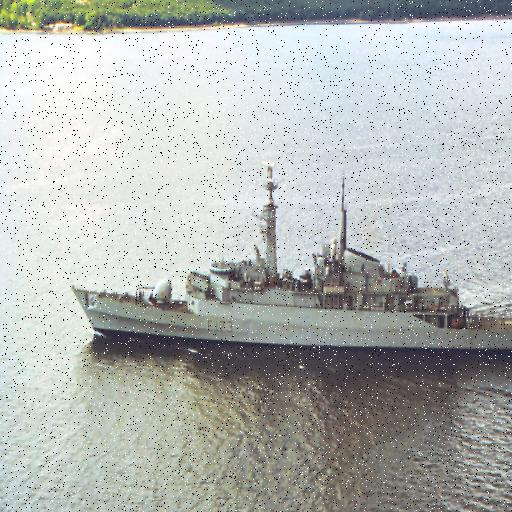Fragata: (68, 146, 512, 365)
